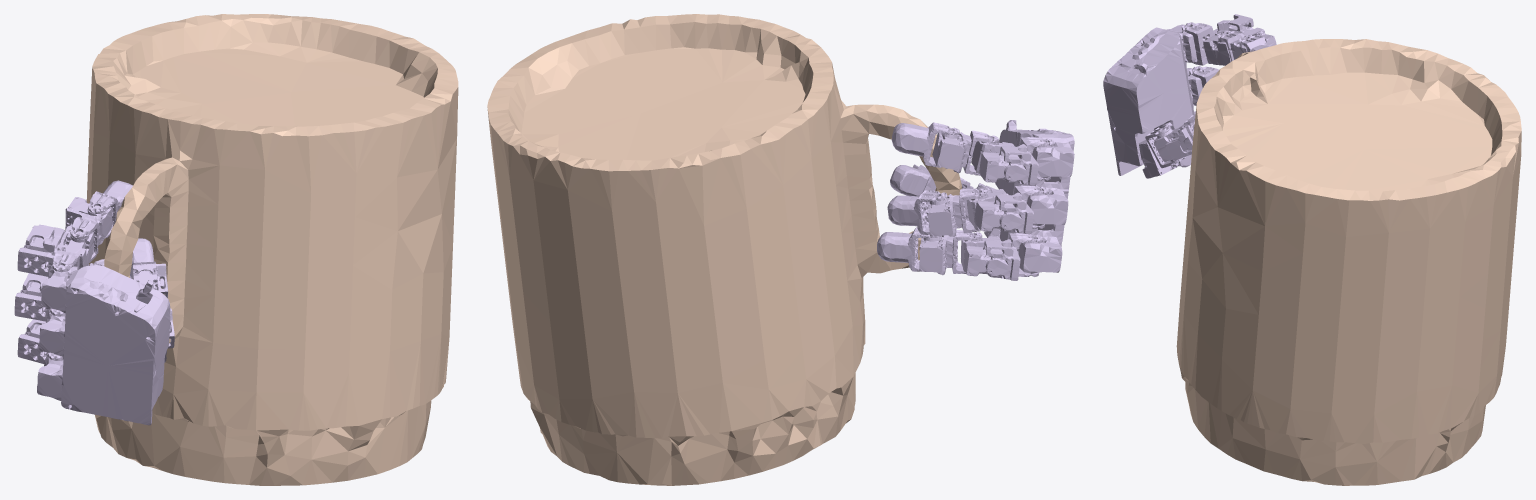
The model's file is 5f0aa854fafc05-final.glb.
3 renders of one model, left to right at view 1: azimuth 30°, elevation 25°; view 2: azimuth 150°, elevation 25°; view 3: azimuth 270°, elevation 25°, orthographic. The views are drawn at different scales.
Parts seen in each view (by area): view 1: world, LEAP_hand; view 2: world, LEAP_hand; view 3: world, LEAP_hand.
Boxes of the visible parts, x1,y1,x2,y2 form: world: [86, 14, 458, 485]; LEAP_hand: [14, 180, 174, 425]; world: [487, 14, 961, 485]; LEAP_hand: [877, 120, 1074, 280]; world: [1176, 39, 1521, 485]; LEAP_hand: [1103, 14, 1276, 178].
Size of the model in its own units: 0.48 by 0.3512 by 0.3968.
